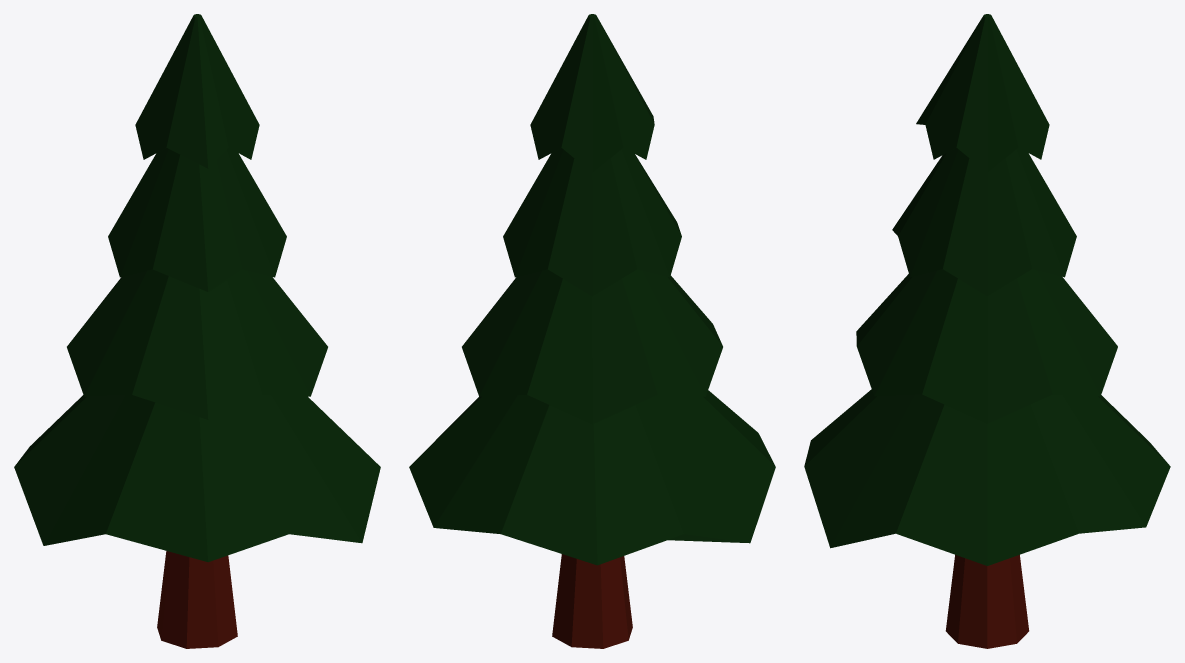
File: tree.obj
The picture shows the model from 3 angles, left to right: view 1: azimuth 30°, elevation 25°; view 2: azimuth 150°, elevation 25°; view 3: azimuth 270°, elevation 25°; orthographic projection.
Parts seen in each view (by area): view 1: 柱体; view 2: 柱体; view 3: 柱体.
Boxes of the visible parts, left/top/right/bottom form: 柱体: left=14, top=14, right=380, bottom=648; 柱体: left=409, top=14, right=775, bottom=648; 柱体: left=804, top=14, right=1170, bottom=648.
Size of the model in its own units: 4.22 by 7.89 by 4.26.
